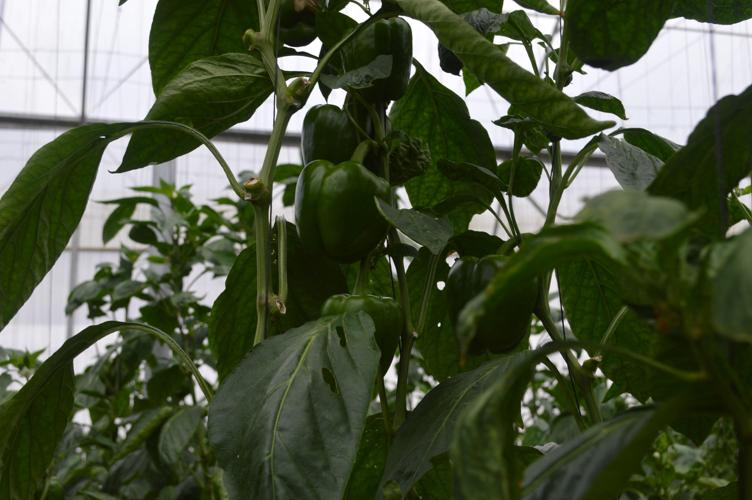BellPepper: (277, 160, 406, 266), (314, 287, 410, 389), (298, 94, 361, 167)
